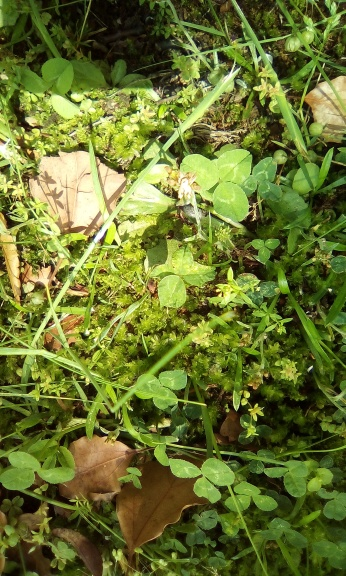4leaf: (148, 245, 217, 309)
